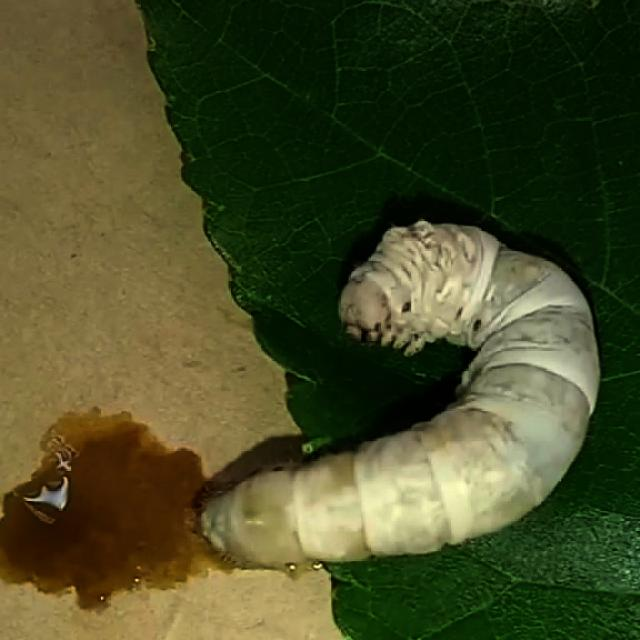Grasserie: (168, 208, 611, 576)
